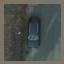car: (27, 17, 41, 49)
